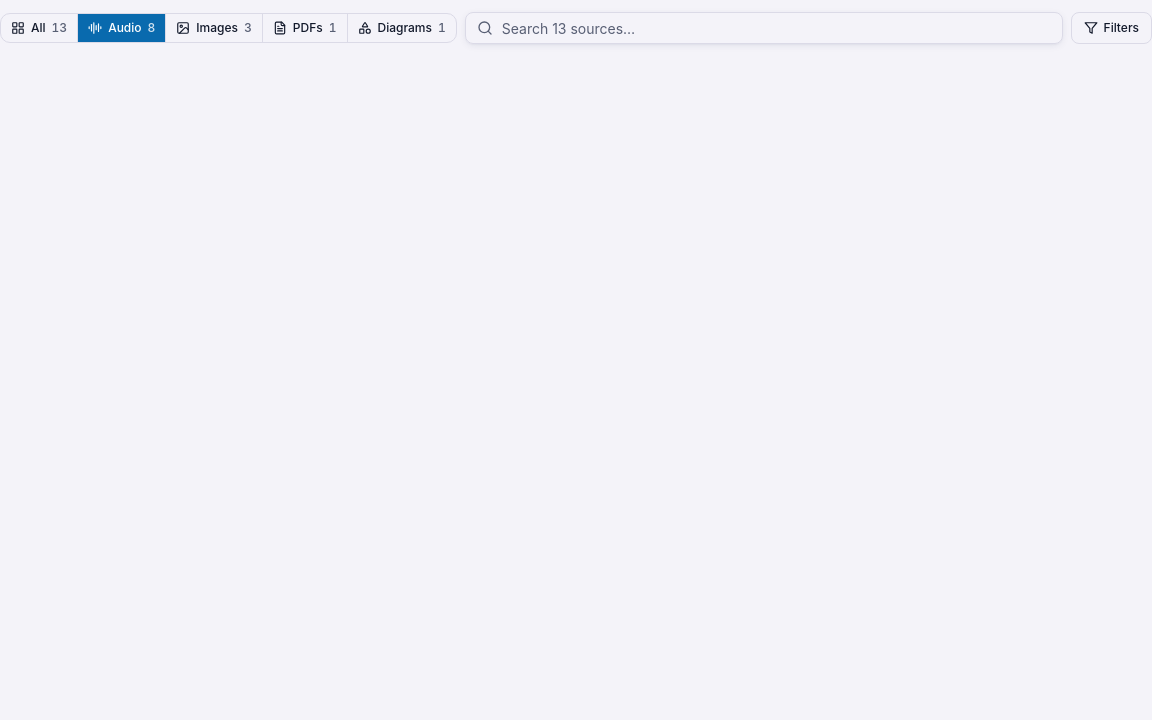
Test: LibraryFilters — capability-specific controls › shows Duration for Audio, and no old conversation-type facet (Jev Kind replaces it)
Click the button with aria-label "More filters and sorting" at [1111, 28], box [1071,12,1151,44]
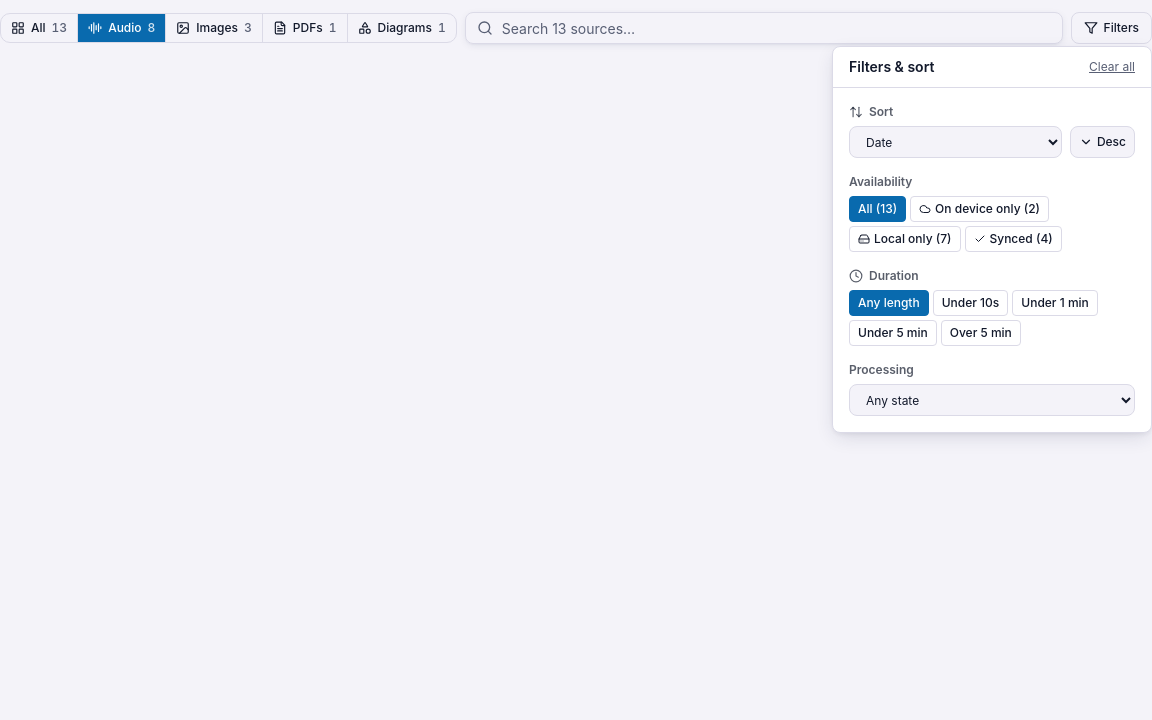
Now the text "Duration" is shown 2 times
